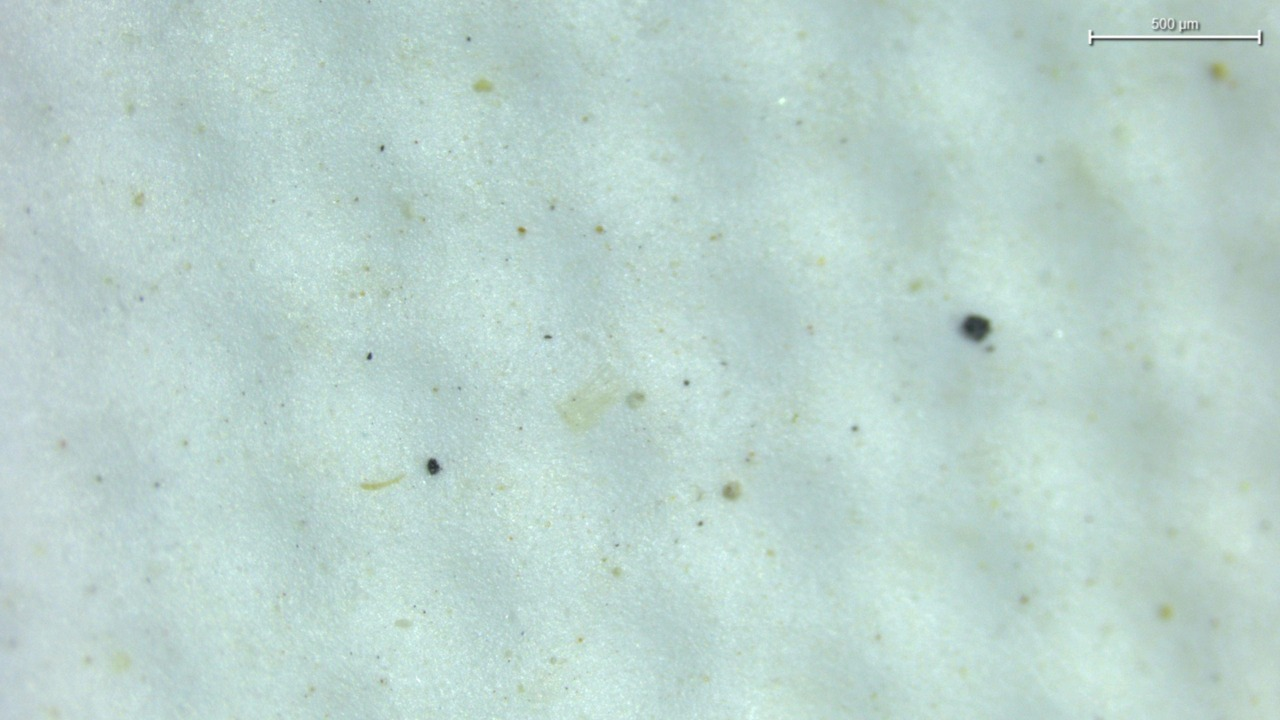microplastic_fragment: (557, 366, 624, 430)
